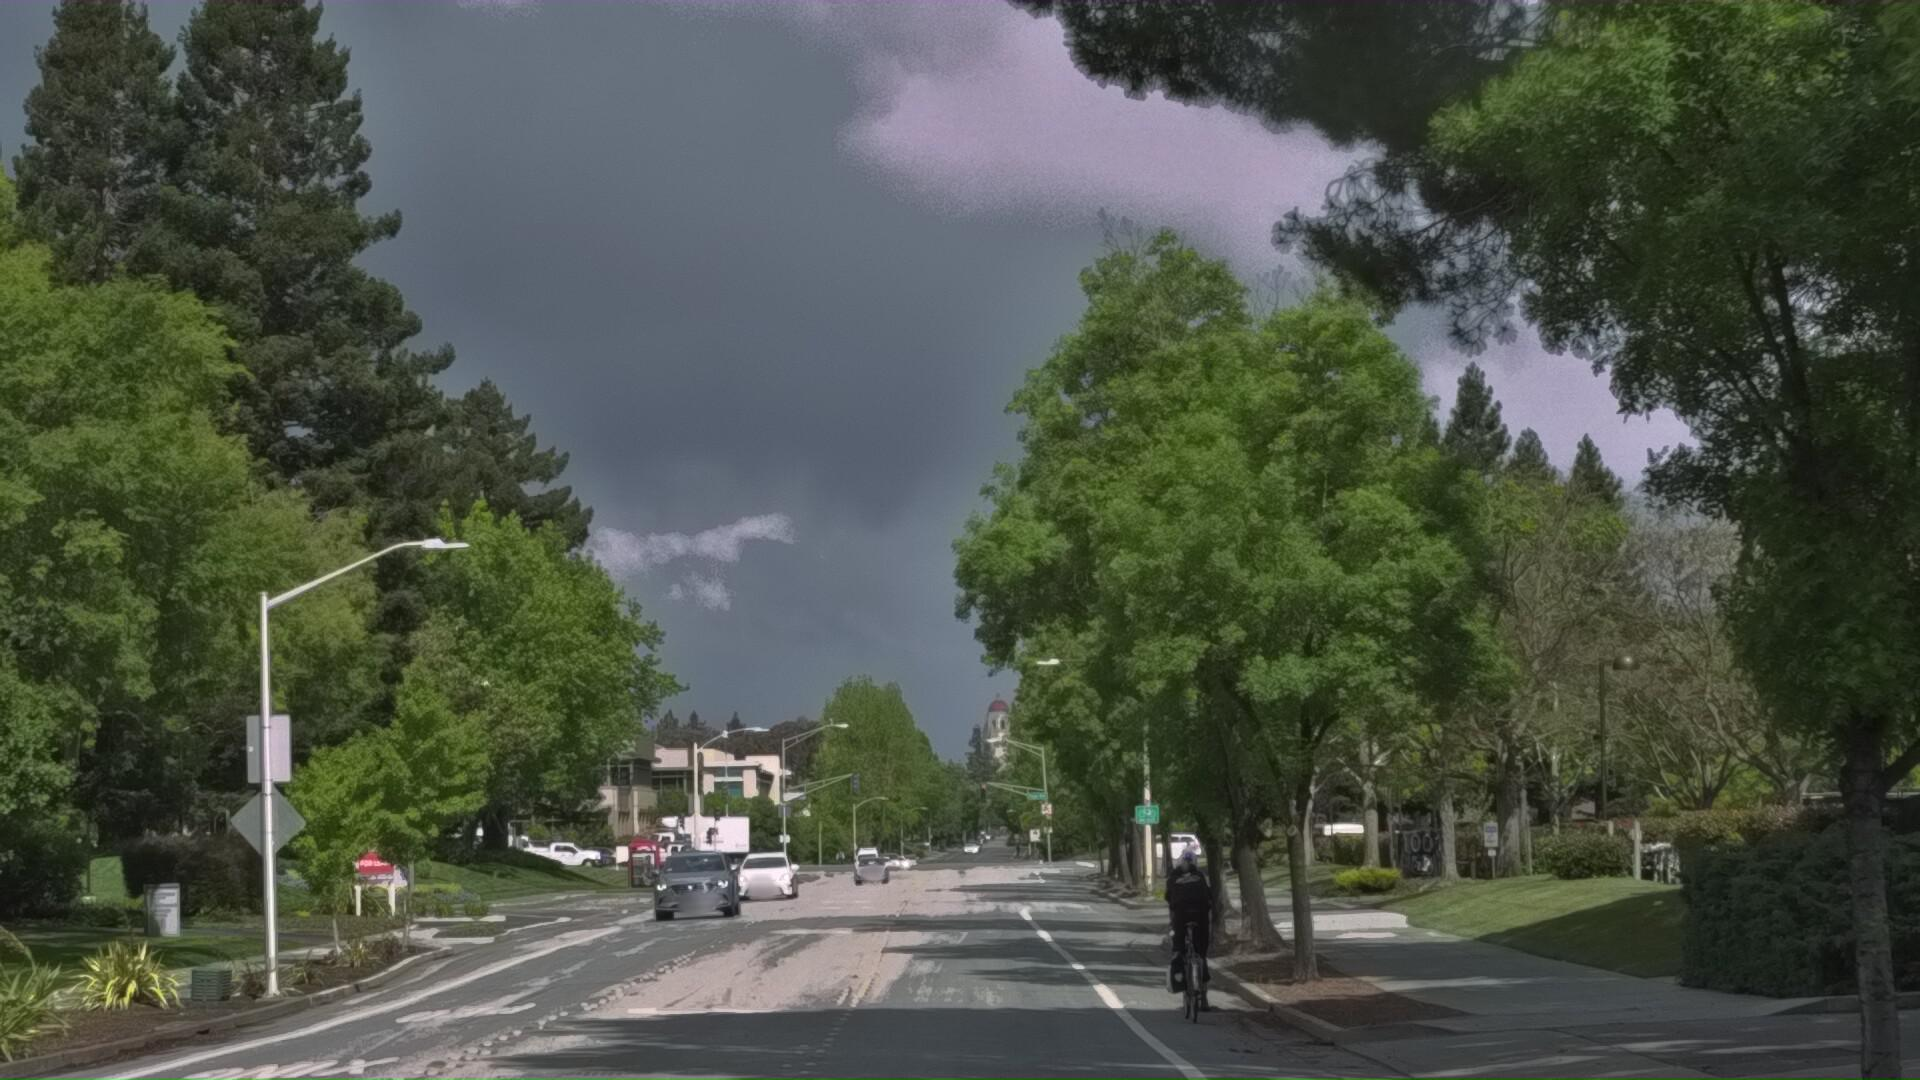bicycle: (1135, 932, 1245, 1080)
